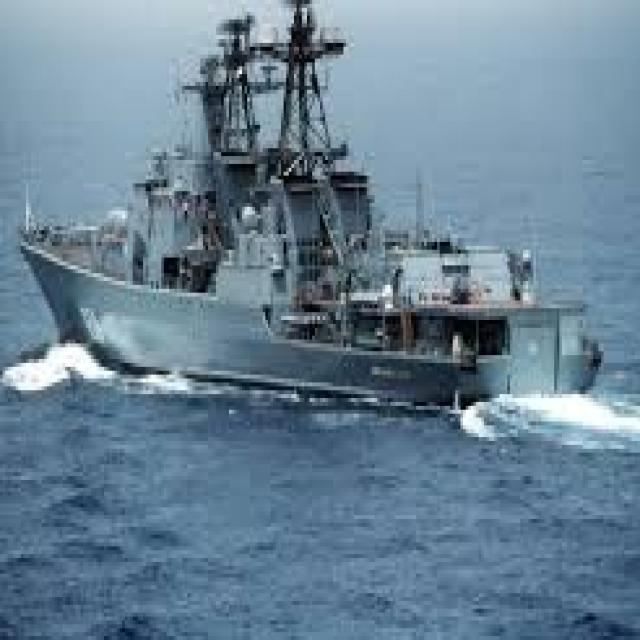navalvessels: (21, 0, 609, 410)
